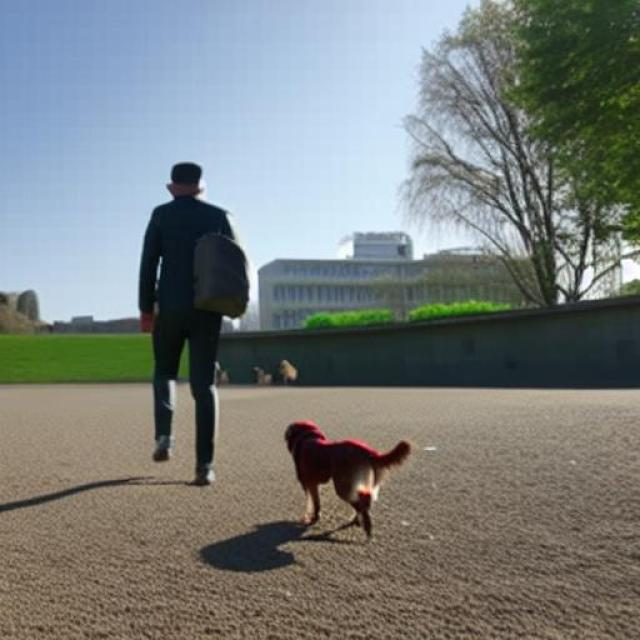Unleashed_Dog: (154, 334, 413, 536)
